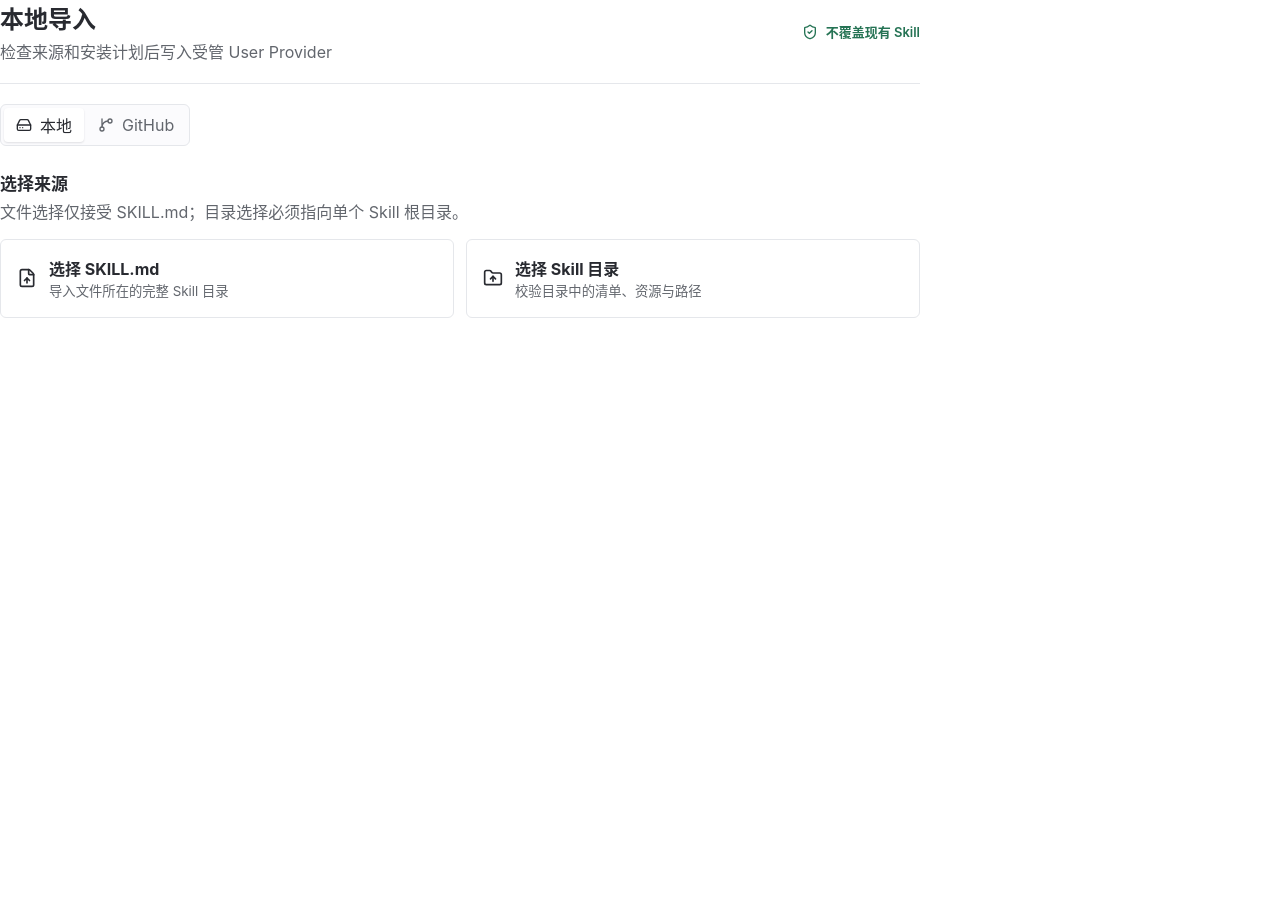
Test case: InstallPage › selects a file and opens a safe operation plan
Click the button "选择 SKILL.md 导入文件所在的完整 Skill 目录". click: (104, 269)
box: [0, 239, 454, 318]
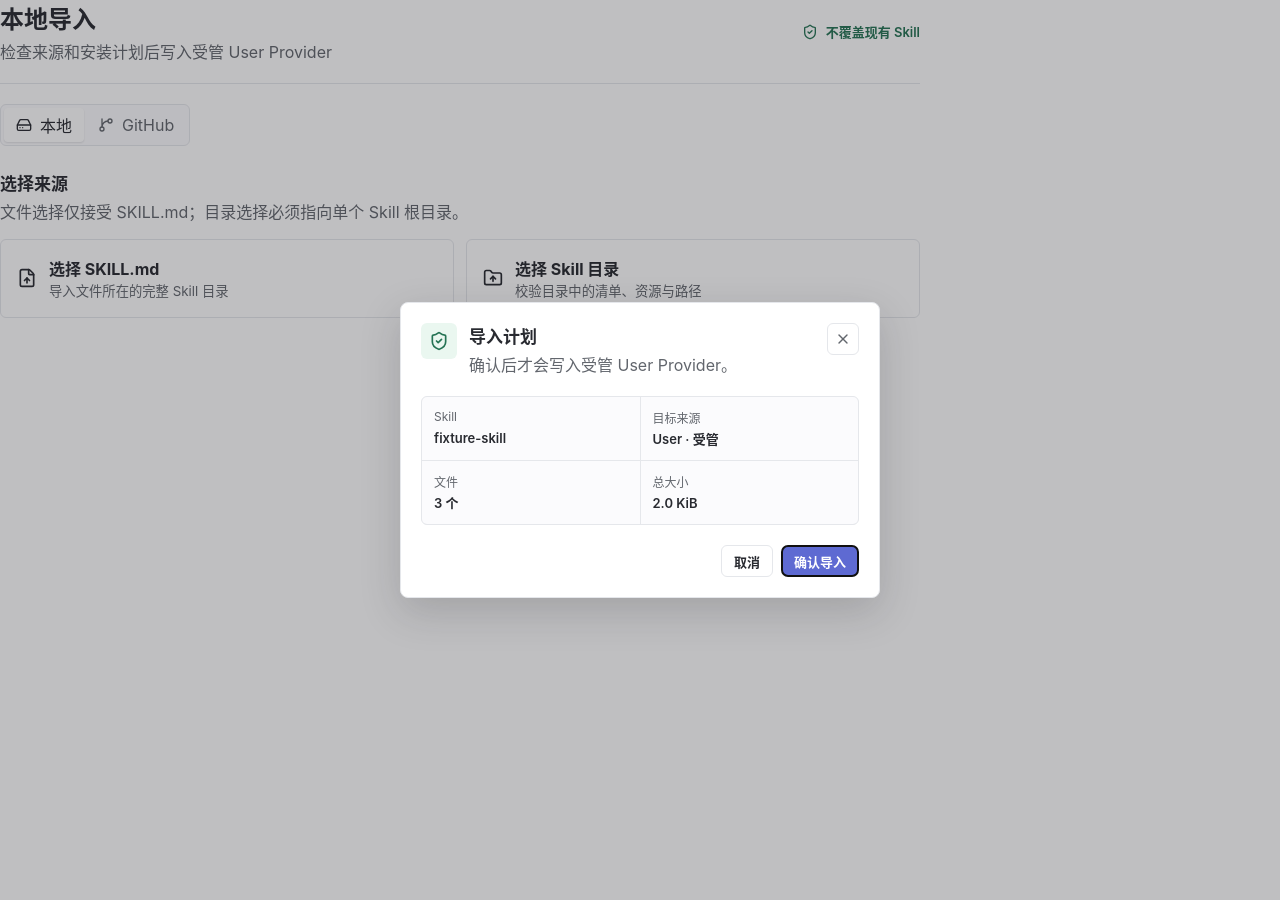
Expected: the dialog "导入计划" is shown, [400, 302, 880, 598]
